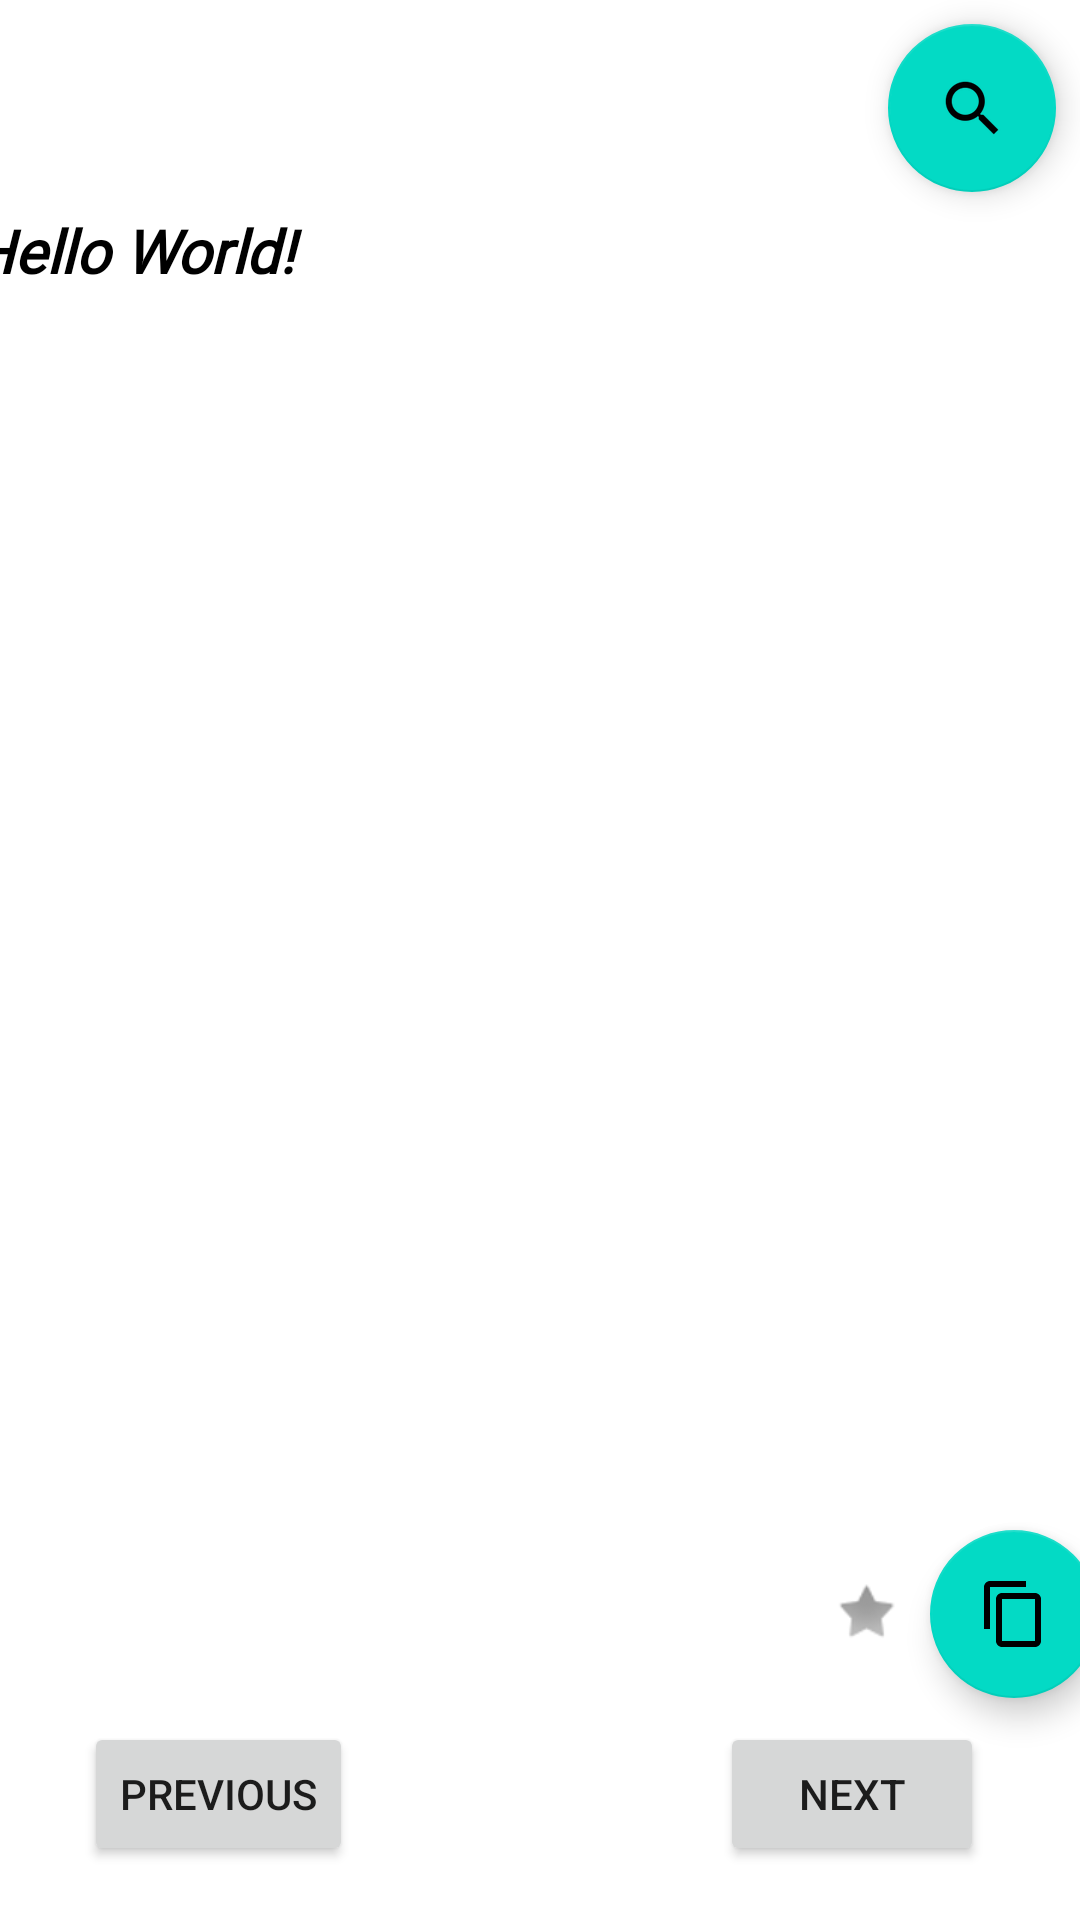

Named icons in this screenshot (1080w x 1920h) and their centers, (x,y):
star off: (866,1610)
